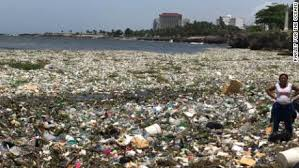garbage: (1, 55, 265, 168)
